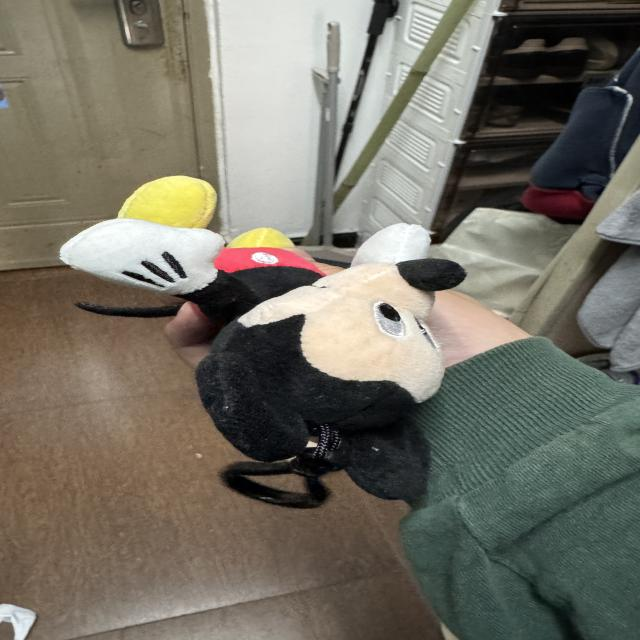mickey: (61, 216, 464, 507)
